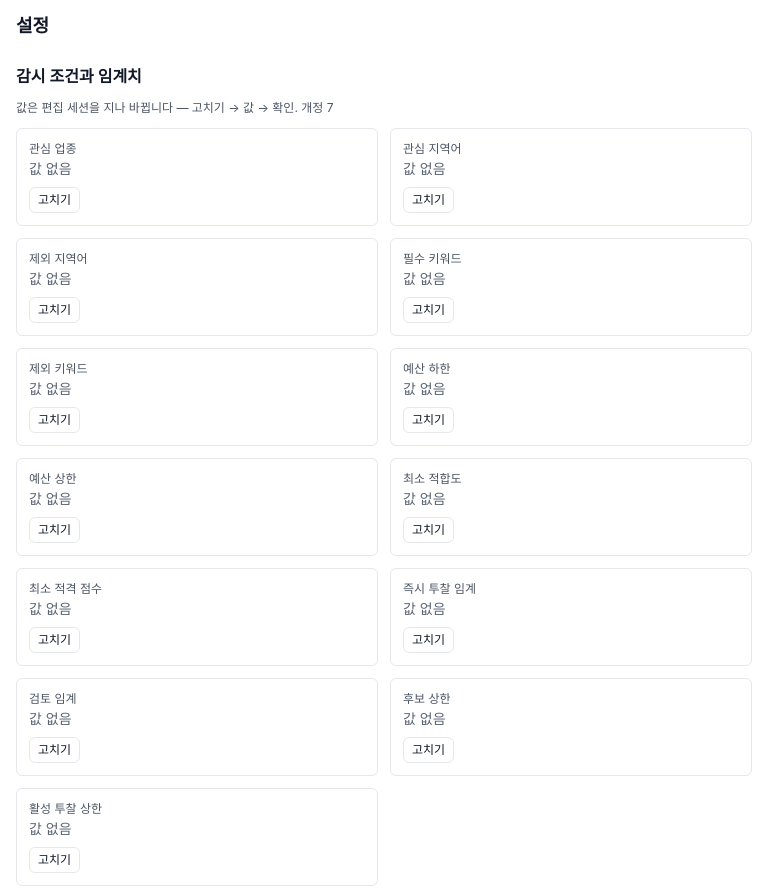
Test: 설정 — 전략은 편집 세션으로만 바뀐다 › 숫자 칸에 수가 아닌 값이면 보내지 않고 무엇이 빠졌는지 말한다
The image size is (769, 896).
Click the button "고치기" below "후보 상한" at (429, 750), box [403,737,454,763]
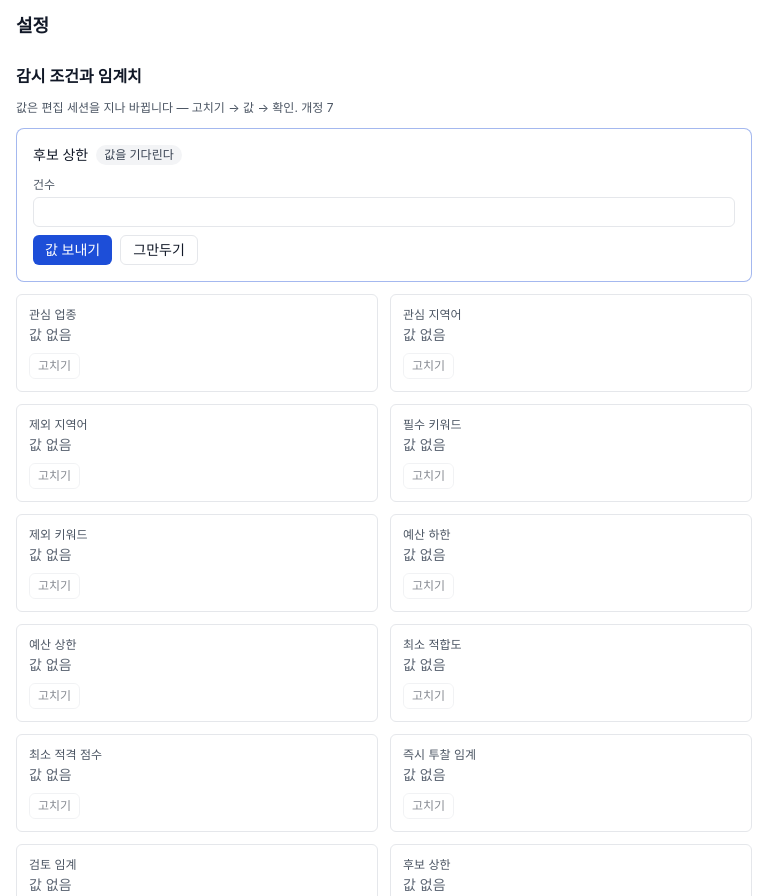
Expected: the element with test id "edit-session" is shown, [16,128,752,282]
Type "많이" into the field named "후보 상한" at (384, 212), box [33,197,735,227]
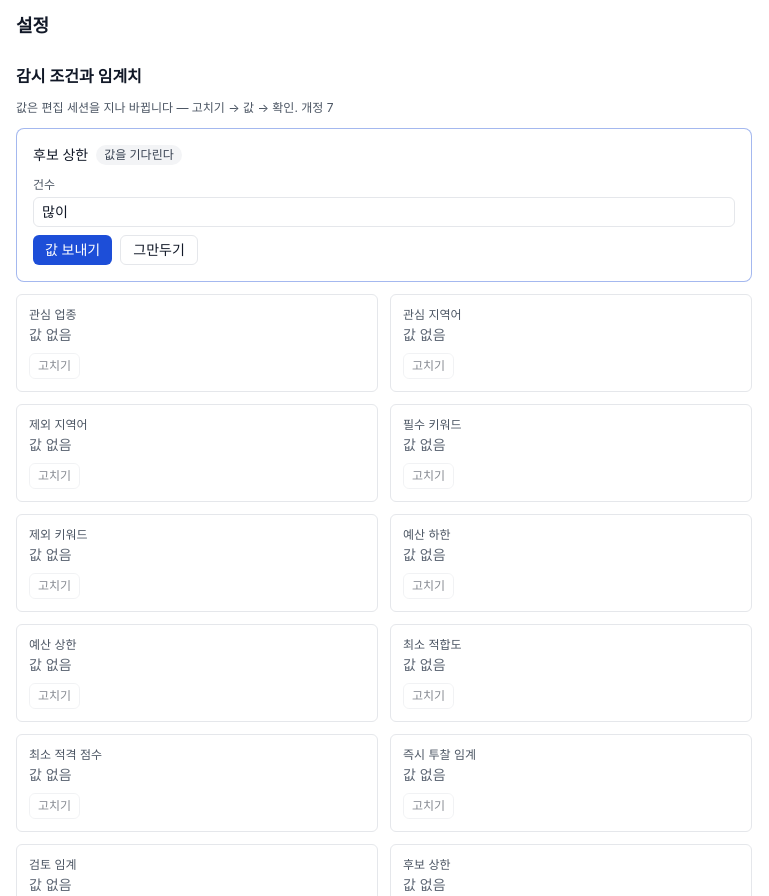
Click the button "값 보내기" at (73, 250), box [33,235,112,265]
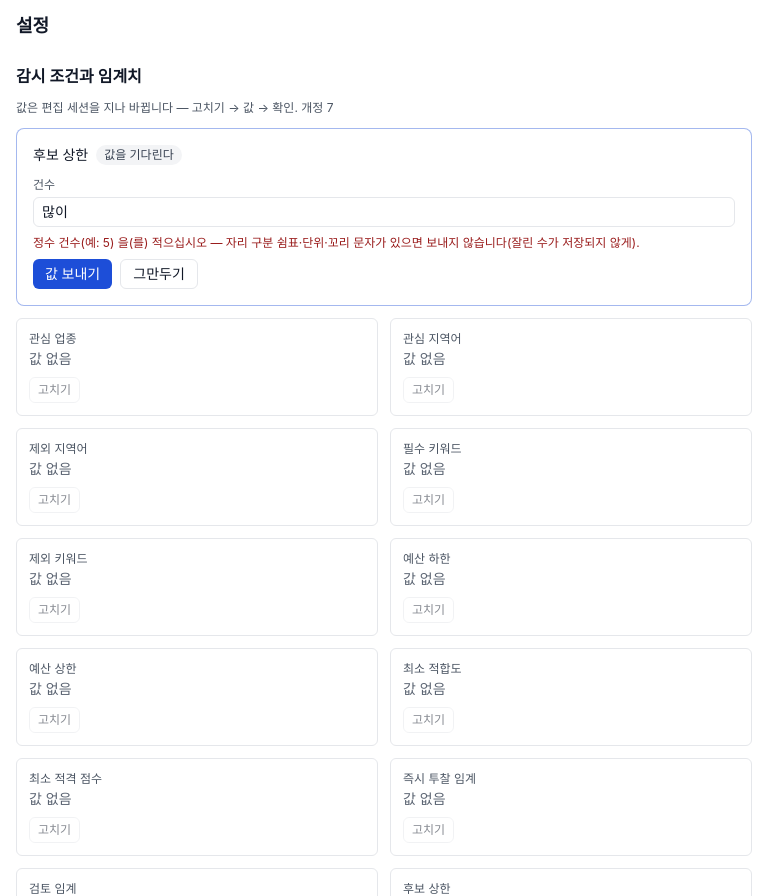
Expected: the message "정수 건수(예: 5) 을(를) 적으십시오 — 자리 구분 쉼표·단위·꼬리 문자가 있으면 보내지 않습니다(잘린 수가 저장되지 않게)." is shown, [33,235,735,251]
